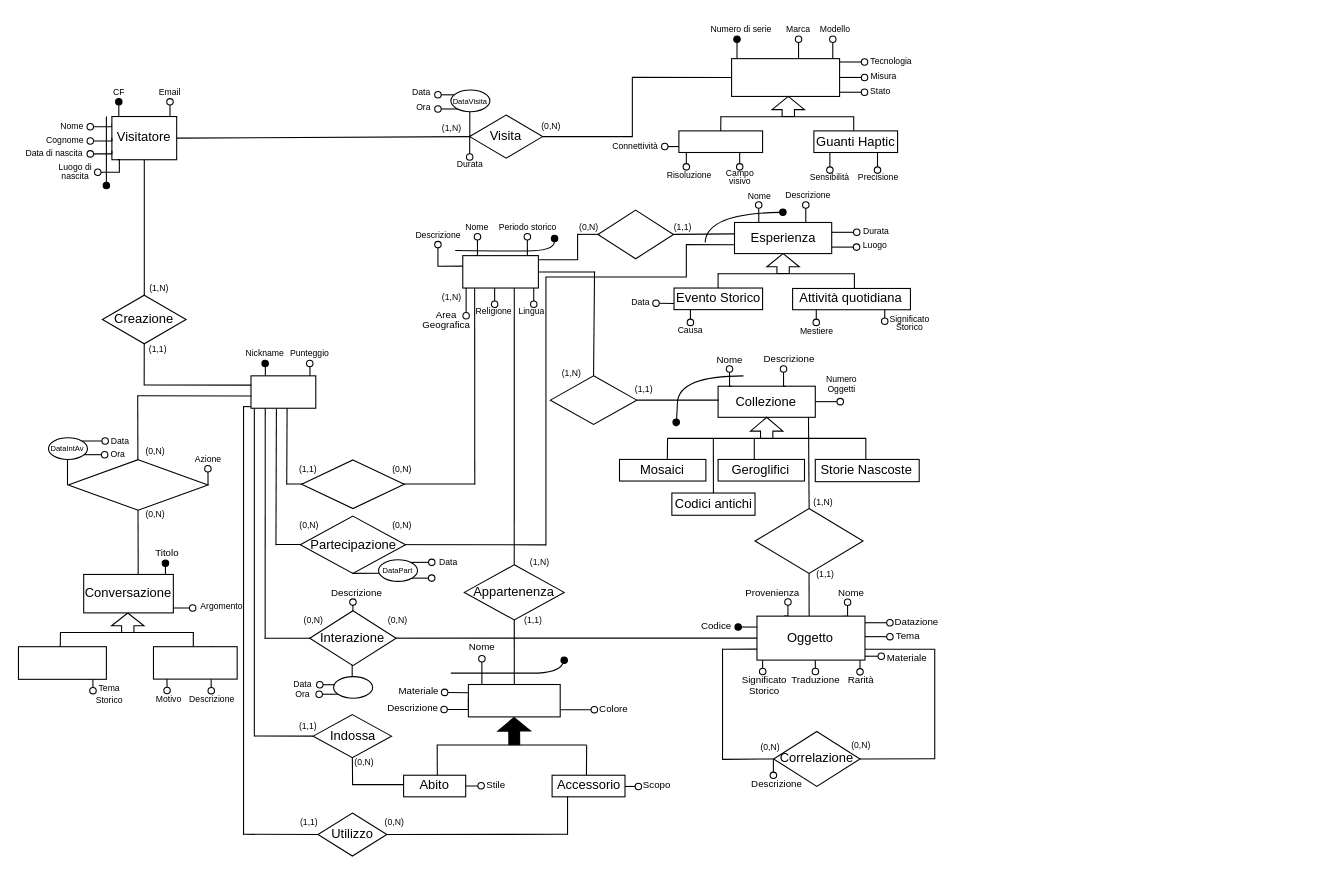
The diagram is 1339 pixels wide and 876 high, and some of its shapes have lost their labels. Here are the shapes that lost their labels. From the top down, the centre of each, then its label:
At (x=785, y=77): "Oggetti Informatici".
At (x=720, y=141): "Visore VR".
At (x=635, y=234): "Offerta".
At (x=500, y=271): "Civiltà".
At (x=283, y=391): "Avatar".
At (x=593, y=399): "Pertinenza".
At (x=137, y=484): "InterazioneAvatar".
At (x=352, y=484): "Esplorazione".
At (x=808, y=540): "Contenimento".
At (x=61, y=662): "Discussione Virtuale".
At (x=194, y=662): "Nuova Teoria".
At (x=353, y=687): "DataInt".
At (x=513, y=700): "Abbigliamento".
